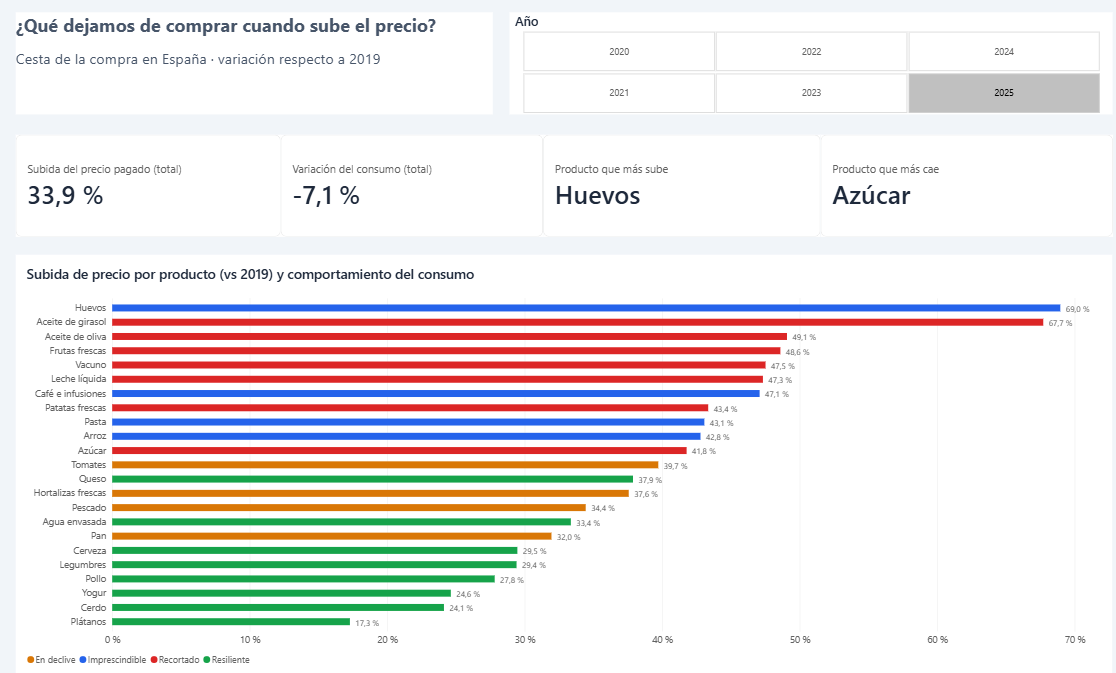

What the dashboard file says about the page in this screenshot:
{"tool":"powerbi","page":{"name":"Resumen","canvas":[1920,1080],"ordinal":0},"visuals":[{"type":"textbox","box":[28,98,702,150],"z":0},{"type":"slicer","fields":{"Values":["dim_anio.anio"]},"box":[754,98,888,150],"z":1000},{"type":"cardVisual","fields":{"Data":["_Medidas.Inflación alimentaria pagada"]},"box":[28,278,390,150],"z":2000},{"type":"cardVisual","fields":{"Data":["_Medidas.Var consumo total"]},"box":[418,278,386,150],"z":3000},{"type":"cardVisual","fields":{"Data":["_Medidas.Producto que más sube"]},"box":[804,278,408,150],"z":4000},{"type":"cardVisual","fields":{"Data":["_Medidas.Producto que más cae"]},"box":[1212,278,430,150],"z":5000},{"type":"barChart","title":"Subida de precio por producto (vs 2019) y comportamiento del consumo","fields":{"Category":["dim_producto.producto"],"Series":["kpis.cuadrante"],"Y":["_Medidas.Var precio %"]},"box":[28,454,1614,626],"z":6000}]}

Visuals, with their boxes on the page's 1920x1080 design canvas (x1, y1, x2, y2). These are canvas units, not pixel positions in the 1116x673 screenshot, which may show the page scaled, cropped or inside an application window:
textbox: bbox(28, 98, 730, 248)
slicer - dim_anio.anio: bbox(754, 98, 1642, 248)
cardVisual - _Medidas.Inflación alimentaria pagada: bbox(28, 278, 418, 428)
cardVisual - _Medidas.Var consumo total: bbox(418, 278, 804, 428)
cardVisual - _Medidas.Producto que más sube: bbox(804, 278, 1212, 428)
cardVisual - _Medidas.Producto que más cae: bbox(1212, 278, 1642, 428)
"Subida de precio por producto (vs 2019) y comportamiento del consumo" barChart: bbox(28, 454, 1642, 1080)
